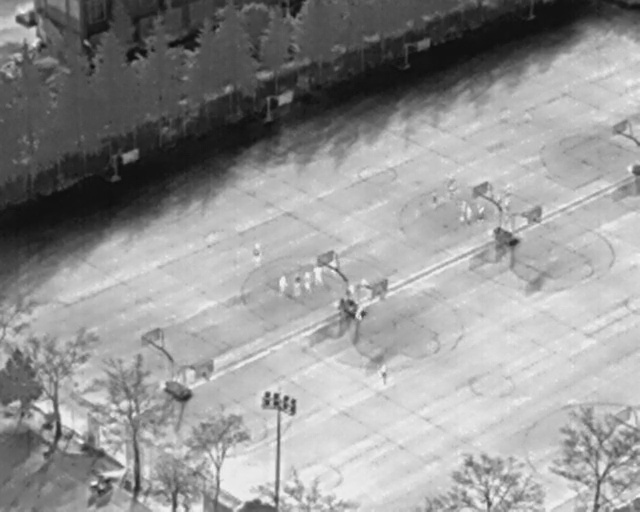Person: (252, 242, 262, 269), (378, 362, 389, 385), (293, 273, 301, 298), (313, 263, 322, 285), (279, 273, 287, 295), (303, 270, 311, 292), (476, 203, 485, 221), (504, 193, 512, 213), (460, 200, 466, 225), (431, 188, 438, 209), (465, 204, 471, 225), (495, 194, 501, 215)
